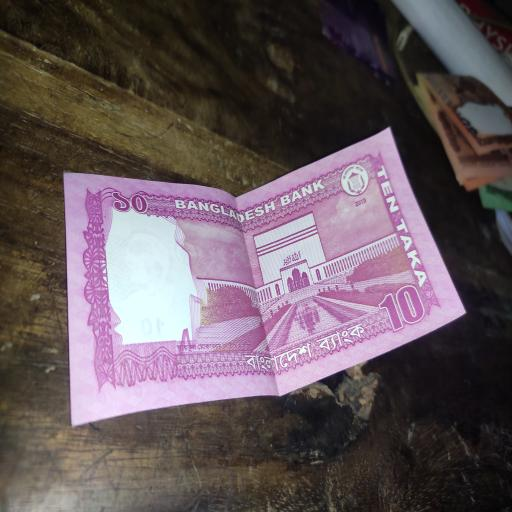10taka: (65, 130, 468, 425)
